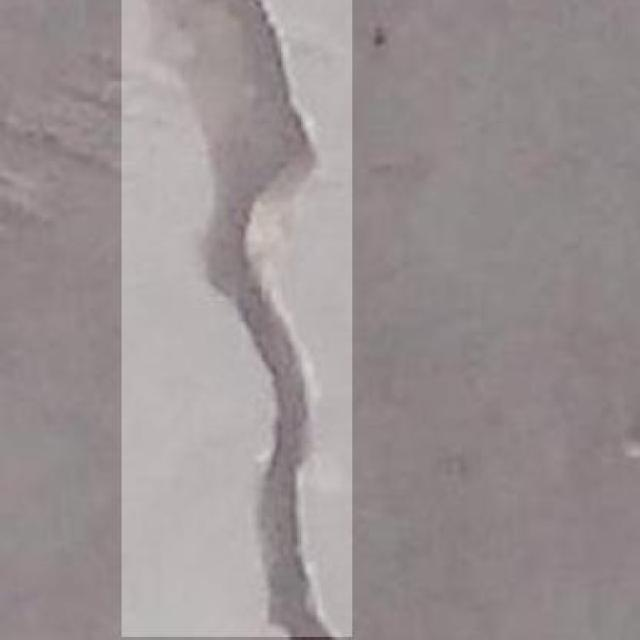Crack: (137, 3, 349, 640)
